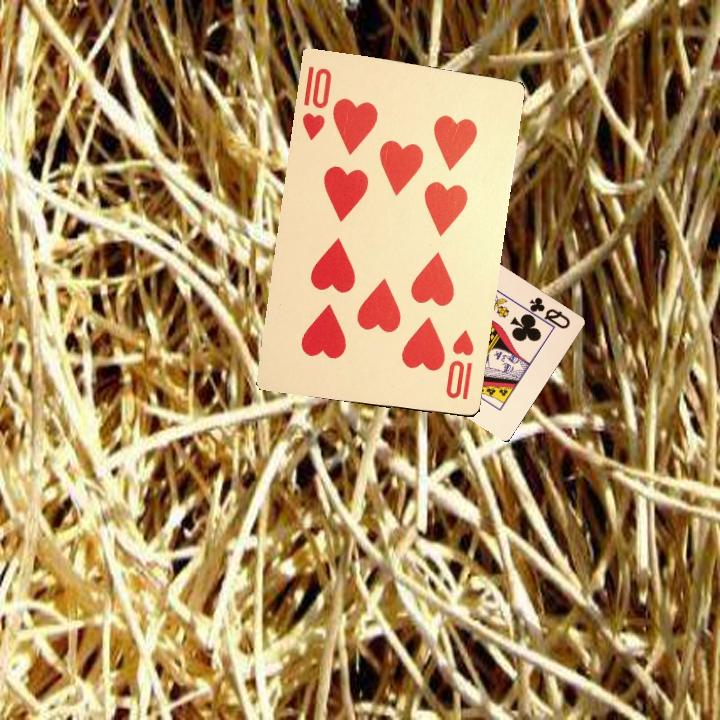10h: (298, 62, 334, 142), (441, 326, 477, 403)
Qc: (520, 293, 573, 332)
